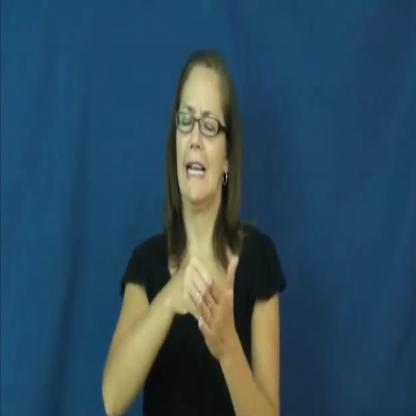Expensive: (163, 236, 247, 375)
